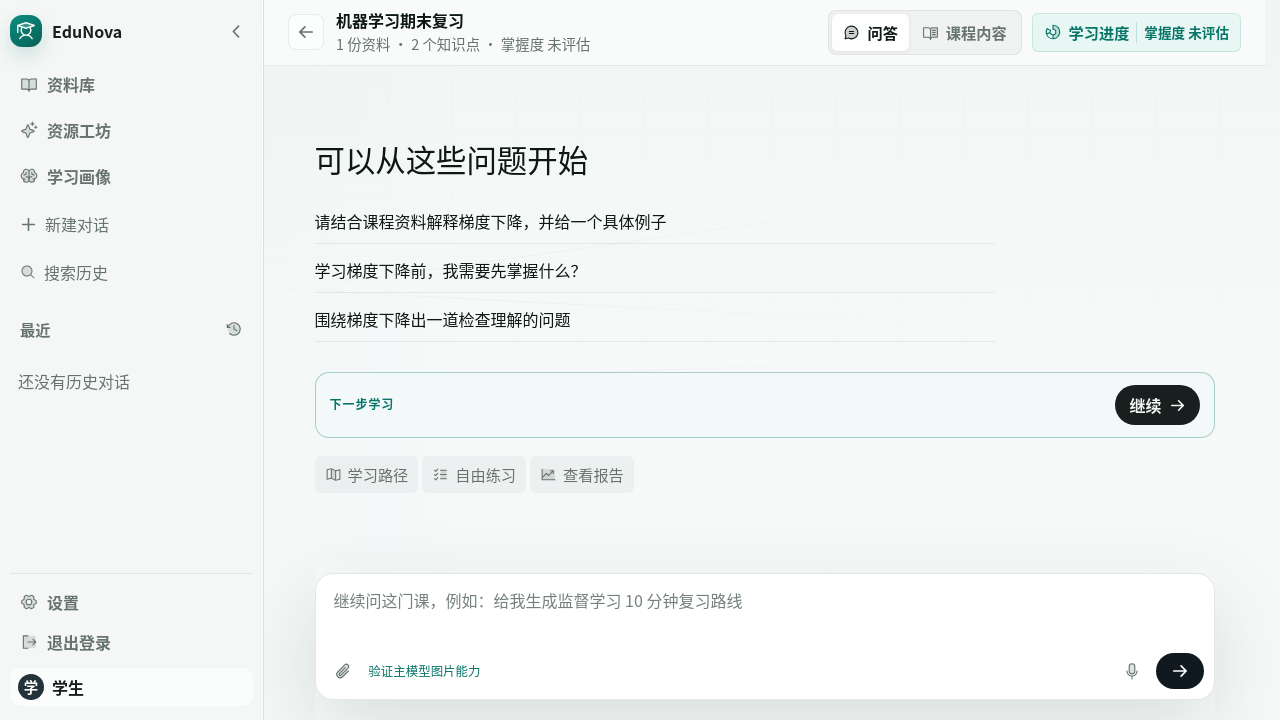
Test: student interaction affordances › renders generated course detail and exposes knowledge points in study mode
This screenshot has width=1280, height=720.
Expected: the heading "机器学习期末复习" is shown, left=336, top=8, right=464, bottom=32
Expected: the text named "课程状态" shows "资料", left=336, top=33, right=590, bottom=54
Click the button "课程内容": [964, 32] box left=911, top=14, right=1018, bottom=51
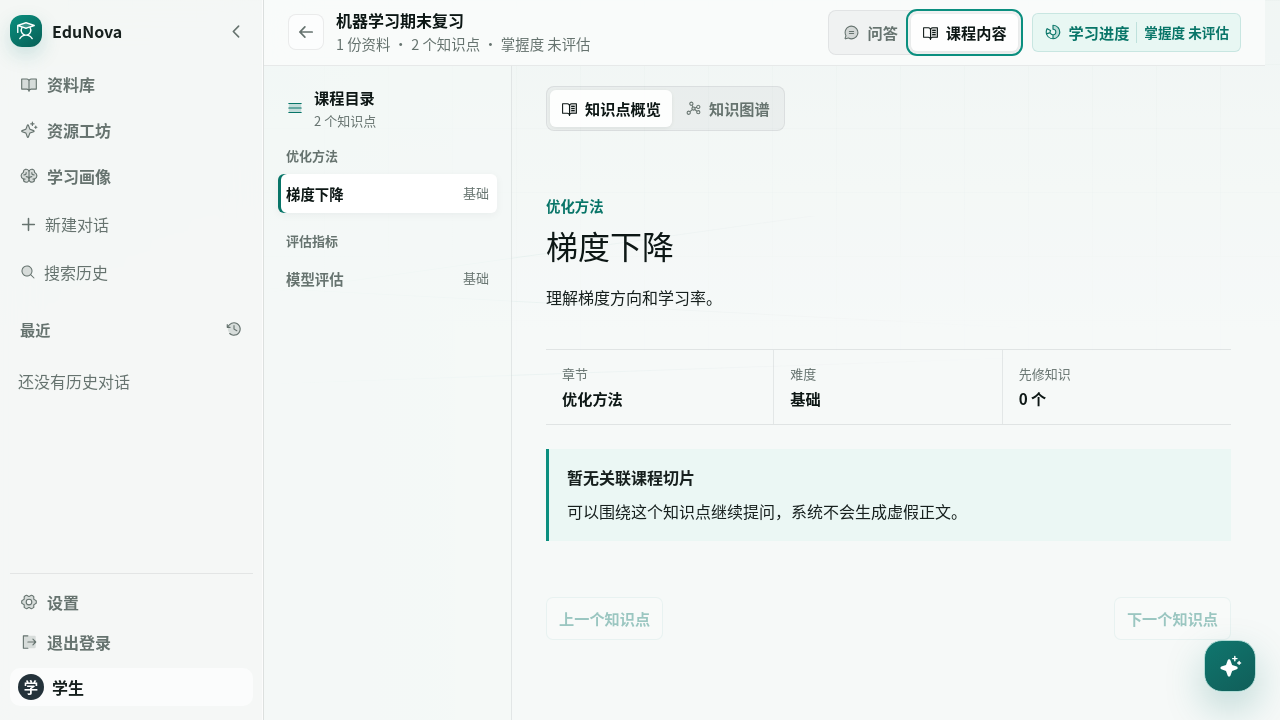
Result: the element named "课程内容模式" shows "梯度下降" at left=278, top=174, right=497, bottom=213
Result: the element named "课程内容模式" shows "模型评估" at left=278, top=259, right=497, bottom=298
